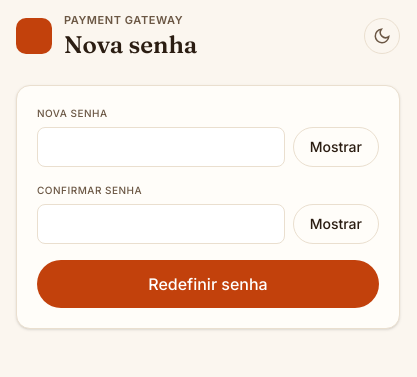
Test: passwords › noPasswordSurvivesAFailed reset 410
The width and height of the screenshot is (417, 377).
Type "senha-unica-xyz" into the password field labelled "Nova senha" at (161,146), box 37,126 -> 285,166
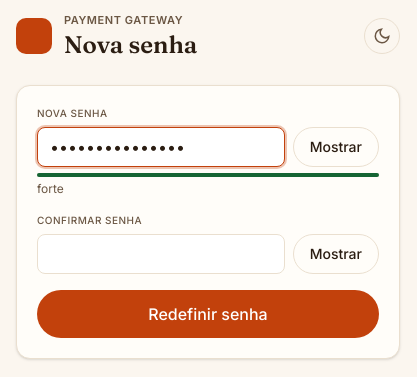
Type "senha-unica-xyz" into the password field labelled "Confirmar senha" at (161,254), box 37,234 -> 285,274
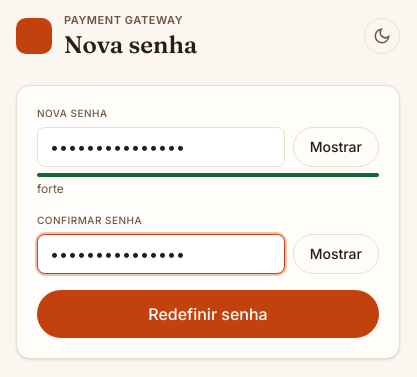
Click the button "Redefinir senha" at (208,314), box 37,290 -> 379,338
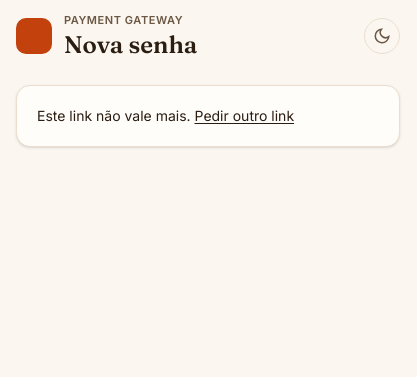
Expected: the text "Este link não vale mais." is shown, 37,106 -> 191,124
